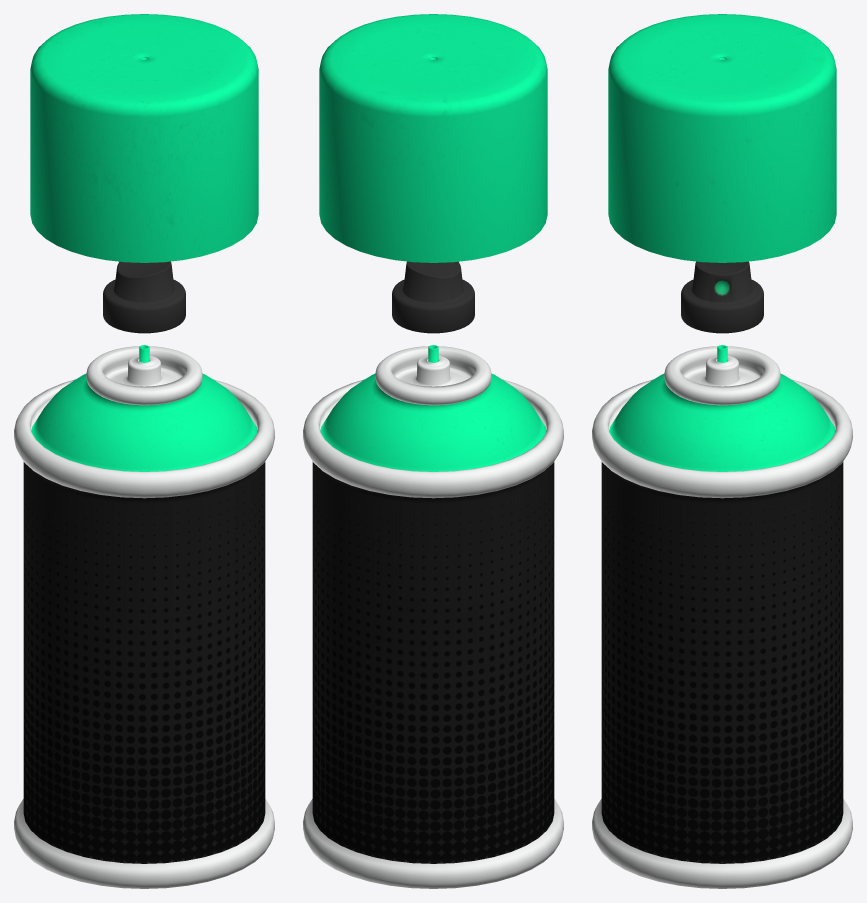
The model's file is graffiti_spray_can.glb.
3 views of the same model, side by side, from view 1: azimuth 30°, elevation 25°; view 2: azimuth 150°, elevation 25°; view 3: azimuth 270°, elevation 25° (orthographic).
Visible parts, largest first — view 1: Object_2; view 2: Object_2; view 3: Object_2.
Boxes of the visible parts, left/top/right/bottom form: Object_2: left=14, top=14, right=274, bottom=888; Object_2: left=303, top=14, right=563, bottom=888; Object_2: left=592, top=14, right=852, bottom=888.
Size of the model in its own units: 201 by 663 by 201.
1 material, 1 textured.
